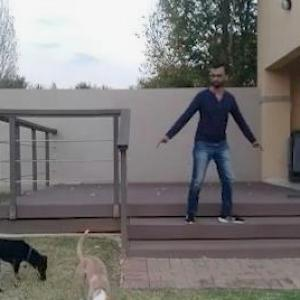land: (174, 62, 251, 234)
